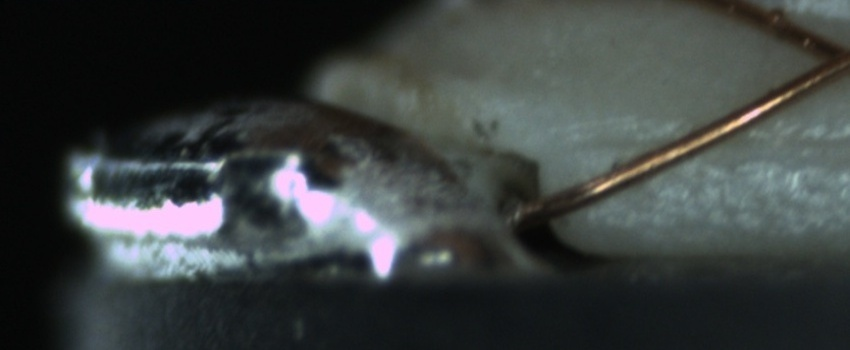CL: (795, 22, 850, 91)
DL: (577, 106, 845, 175)
